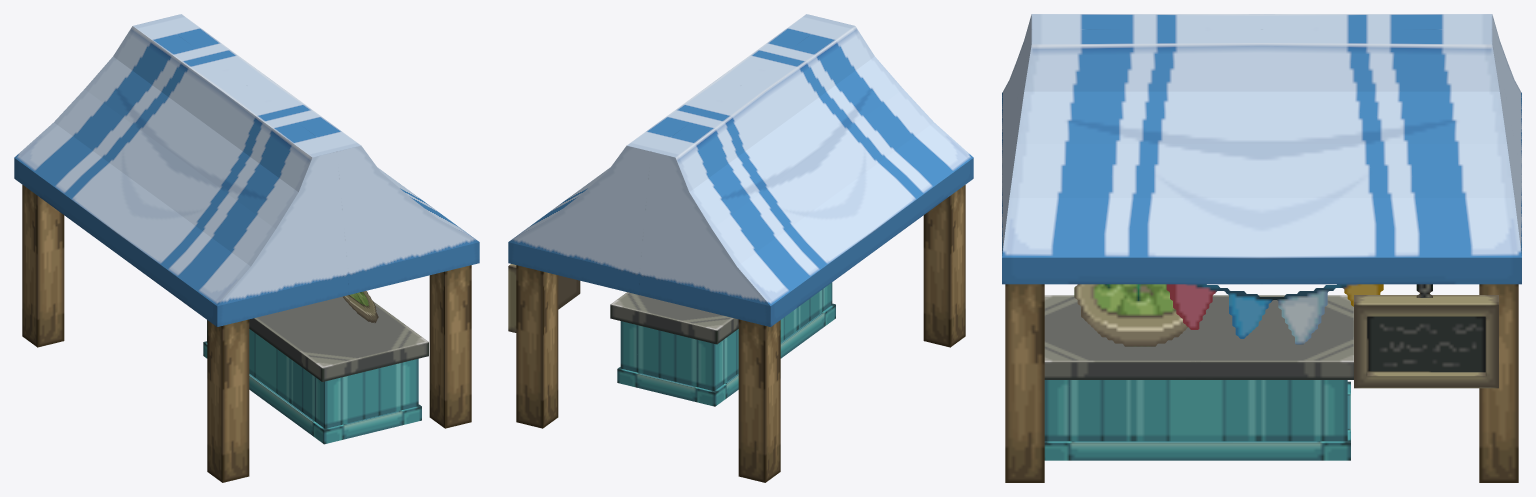
The model's file is Prp_3D_BazaarStall2.fbx.
3 renders of one model, left to right at view 1: azimuth 30°, elevation 25°; view 2: azimuth 150°, elevation 25°; view 3: azimuth 270°, elevation 25°, orthographic. The views are drawn at different scales.
Visible parts, largest first — view 1: BazaarStall2; view 2: BazaarStall2; view 3: BazaarStall2.
Part boxes in pixels (<box>): BazaarStall2: <box>14,14,479,482</box>; BazaarStall2: <box>508,14,973,482</box>; BazaarStall2: <box>1002,14,1521,482</box>.
Size of the model in its own units: 359 by 371 by 465.
